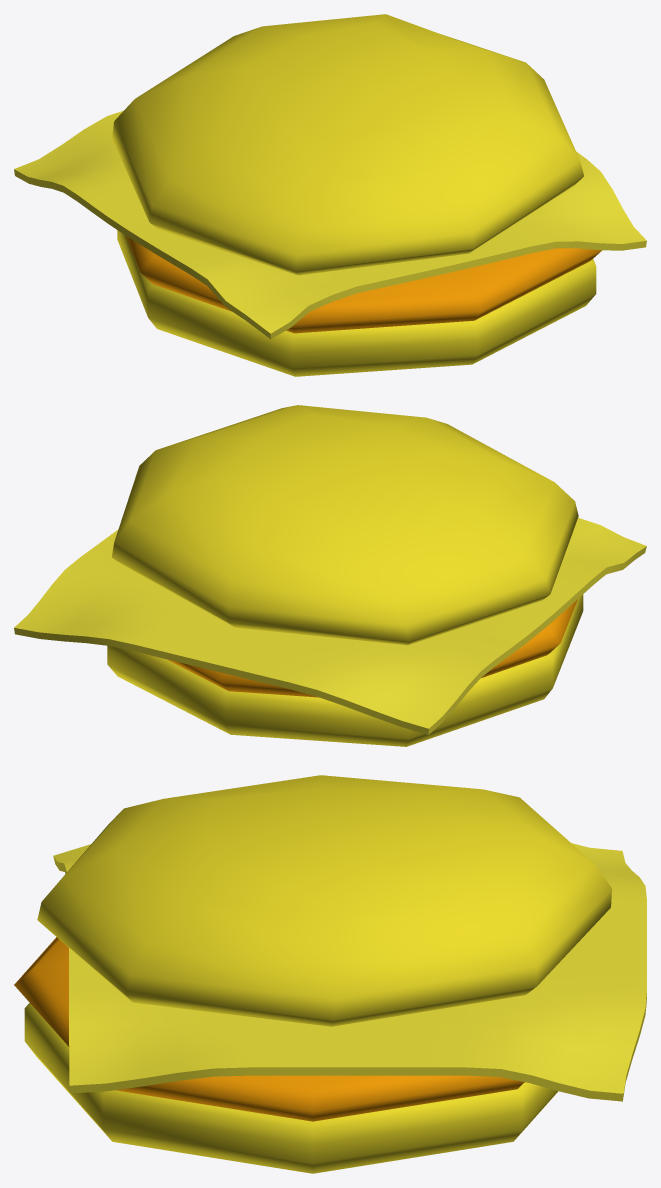
File: hamburger.glb
3 renders of one model, top to bottom at view 1: azimuth 30°, elevation 25°; view 2: azimuth 150°, elevation 25°; view 3: azimuth 270°, elevation 25°, orthographic. The views are drawn at different scales.
Visible parts, largest first — view 1: Cube.002, Plane, Cube, Cube.001; view 2: Cube.002, Plane, Cube, Cube.001; view 3: Cube.002, Plane, Cube, Cube.001.
Part boxes in pixels (x1=…): Cube.002: x1=112, y1=14, x2=583, y2=275; Plane: x1=14, y1=111, x2=646, y2=339; Cube: x1=117, y1=230, x2=596, y2=376; Cube.001: x1=126, y1=236, x2=601, y2=333; Cube.002: x1=112, y1=405, x2=578, y2=645; Plane: x1=14, y1=517, x2=646, y2=734; Cube: x1=107, y1=594, x2=583, y2=746; Cube.001: x1=167, y1=599, x2=577, y2=697; Cube.002: x1=37, y1=775, x2=611, y2=1026; Plane: x1=53, y1=843, x2=646, y2=1101; Cube: x1=24, y1=1003, x2=557, y2=1173; Cube.001: x1=14, y1=937, x2=524, y2=1121.
Bounding box in the file's own units: 9.13 × 4.3 × 9.66.
